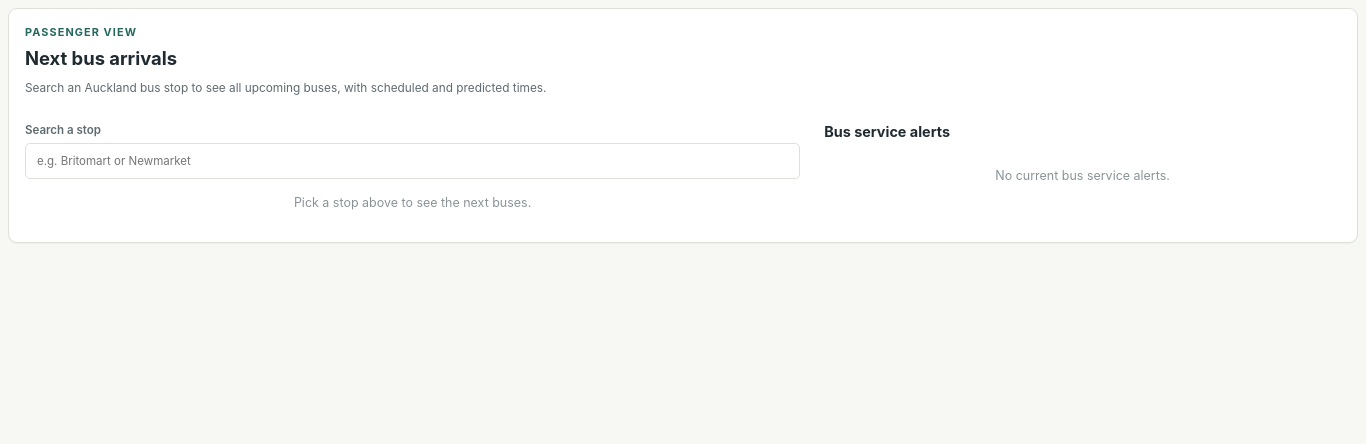
Test: Passenger board › hides the stop suggestions after a stop is chosen
Type "Brit" into the search field with placeholder "e.g. Britomart or Newmarket".
click(413, 161); type("Brit")  # box [25,143,800,179]
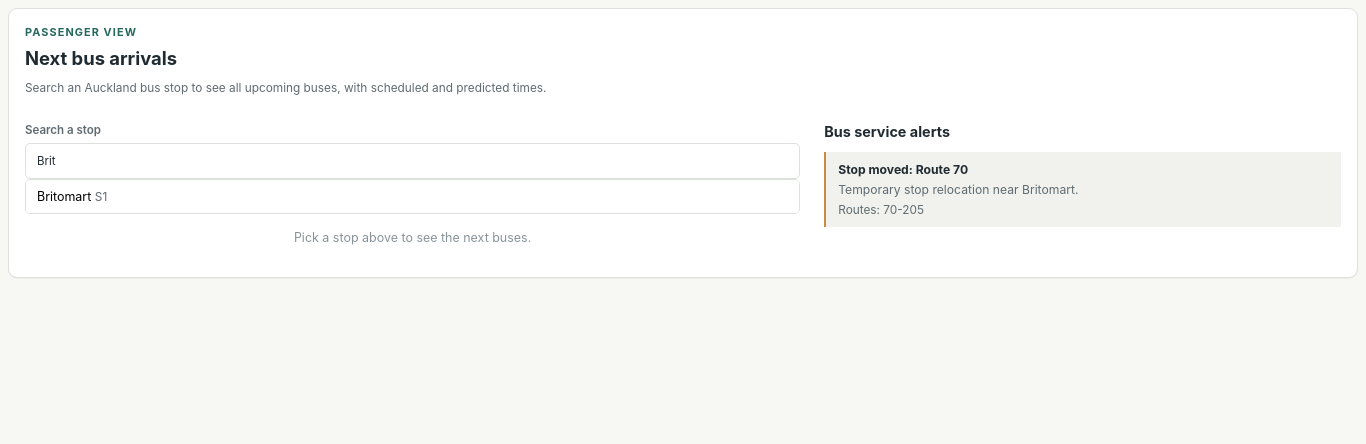
expect the list with test id "stop-options" is shown: met
Click the button "Britomart S1".
click(64, 196)  # box [26,180,799,213]
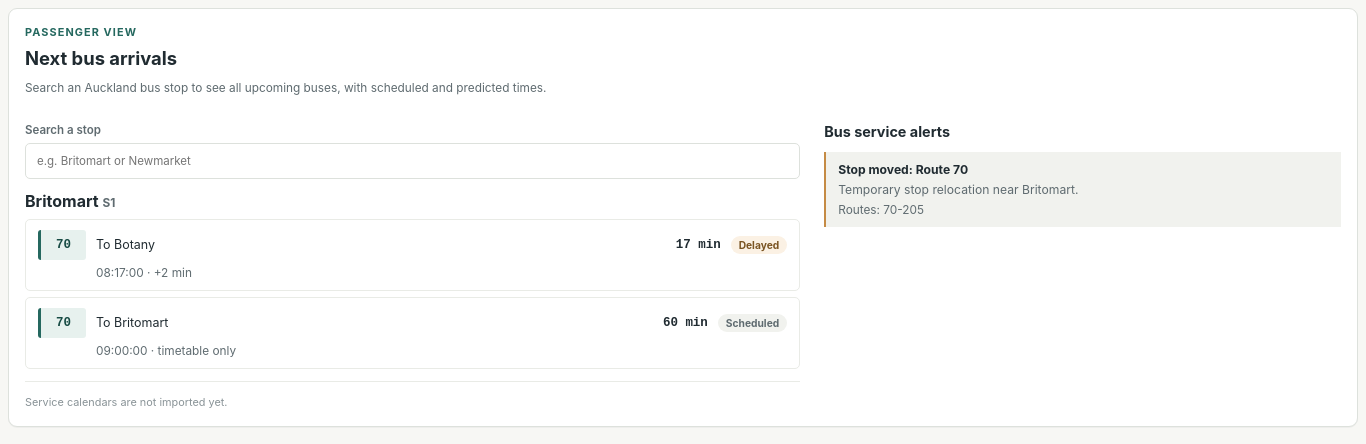
expect the list with test id "stop-options" is gone: met
expect the search field with placeholder "e.g. Britomart or Newmarket" is empty: met, box [25,143,800,179]
